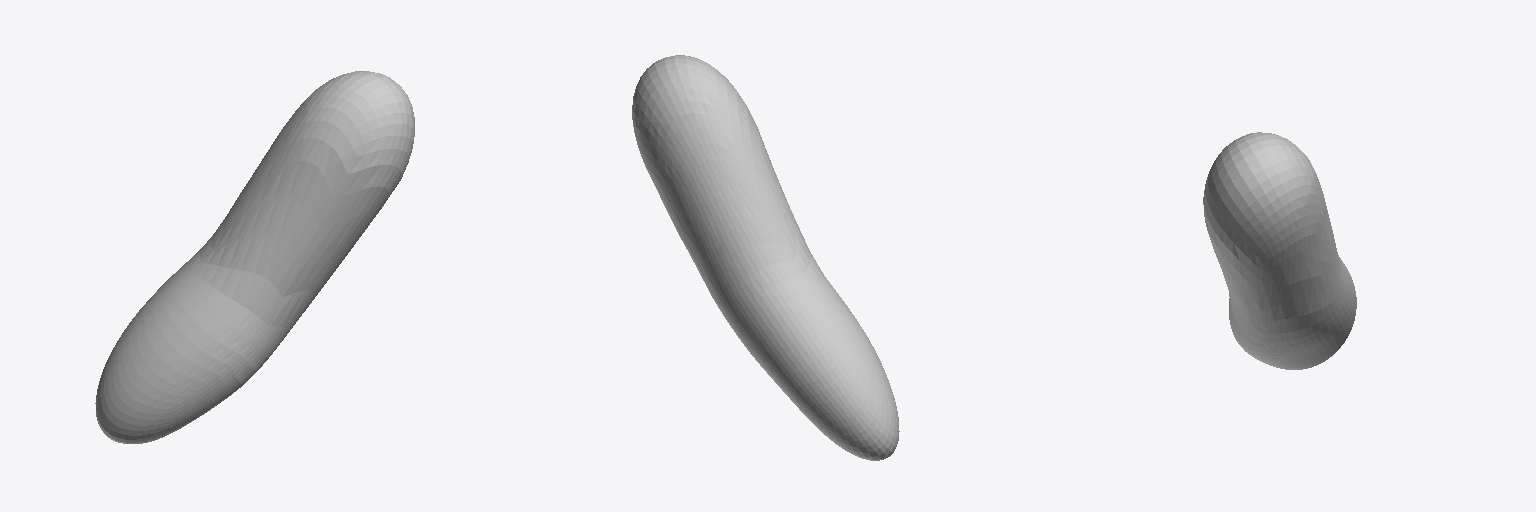
File: SubTool-2-10233600.OBJ
3 renders of one model, left to right at view 1: azimuth 30°, elevation 25°; view 2: azimuth 150°, elevation 25°; view 3: azimuth 270°, elevation 25°, orthographic.
Visible parts, largest first — view 1: Group16180; view 2: Group16180; view 3: Group16180.
Part boxes in pixels (bbox=[...]): Group16180: bbox=[95, 71, 414, 443]; Group16180: bbox=[632, 55, 899, 460]; Group16180: bbox=[1203, 132, 1356, 369].
Size of the model in its own units: 0.8542 by 0.9555 by 0.4029.